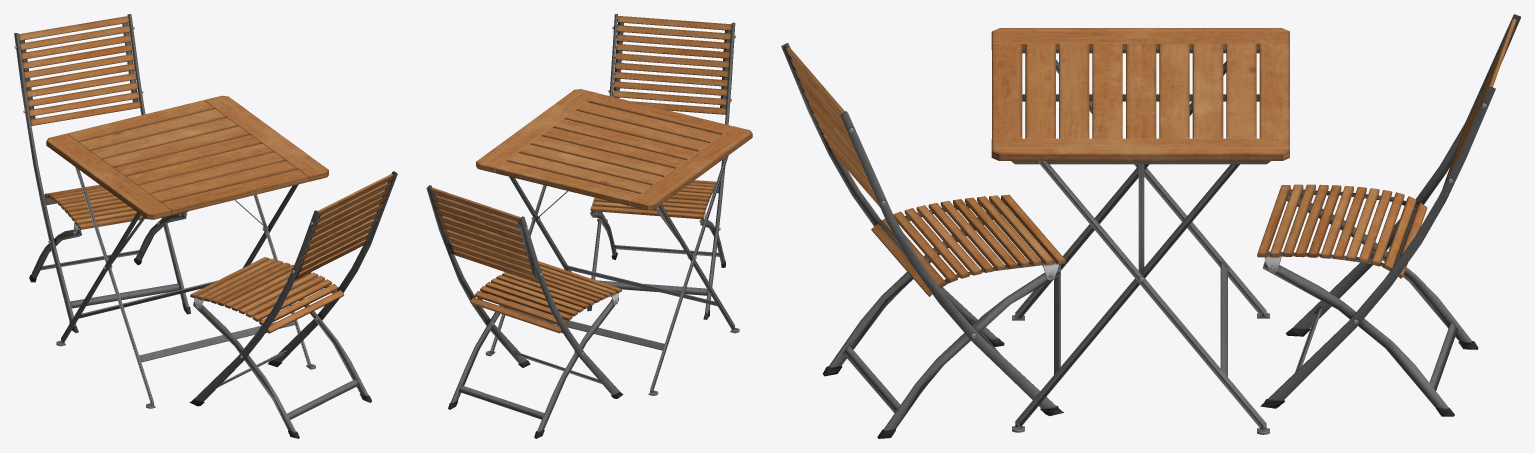
Rendered from mesa-terraza.glb.
3 renders of one model, left to right at view 1: azimuth 30°, elevation 25°; view 2: azimuth 150°, elevation 25°; view 3: azimuth 270°, elevation 25°, orthographic. The views are drawn at different scales.
Visible parts, largest first — view 1: outdoor_table_chair_set_01_chair_01, outdoor_table_chair_set_01_table; view 2: outdoor_table_chair_set_01_chair_01, outdoor_table_chair_set_01_table; view 3: outdoor_table_chair_set_01_table, outdoor_table_chair_set_01_chair_01.
Boxes of the visible parts, x1,y1,x2,y2 form: outdoor_table_chair_set_01_chair_01: [14, 14, 397, 438]; outdoor_table_chair_set_01_table: [46, 95, 328, 408]; outdoor_table_chair_set_01_chair_01: [426, 14, 735, 438]; outdoor_table_chair_set_01_table: [476, 89, 752, 395]; outdoor_table_chair_set_01_table: [991, 28, 1289, 434]; outdoor_table_chair_set_01_chair_01: [781, 14, 1520, 438].
Bounding box in the file's own units: 0.7417 × 0.8579 × 1.72.
Materials: 2 (2 with a texture image).
